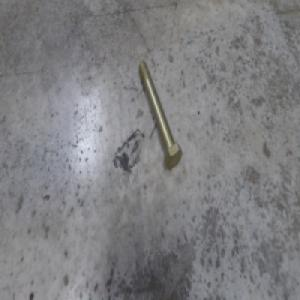Bolt: (139, 59, 183, 172)
